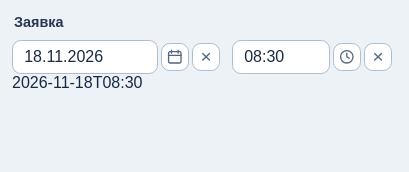
clears only the chosen half of a combined saved value
Step 1. Click the button named "Очистить дату" → click(206, 57), box [192,43,220,71]
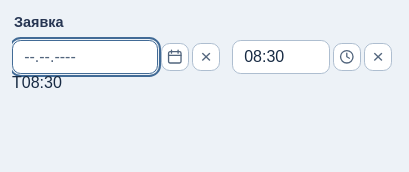
Expected: the text "T08:30" is shown, [12,74,62,91]
Step 2. Click the button named "Очистить время" → click(378, 57), box [364,43,392,71]
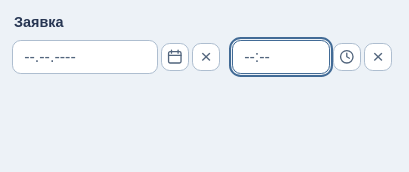
Expected: the field named "Дата" is empty, [12,40,158,74]
Expected: the field named "Время" is empty, [232,40,330,74]
